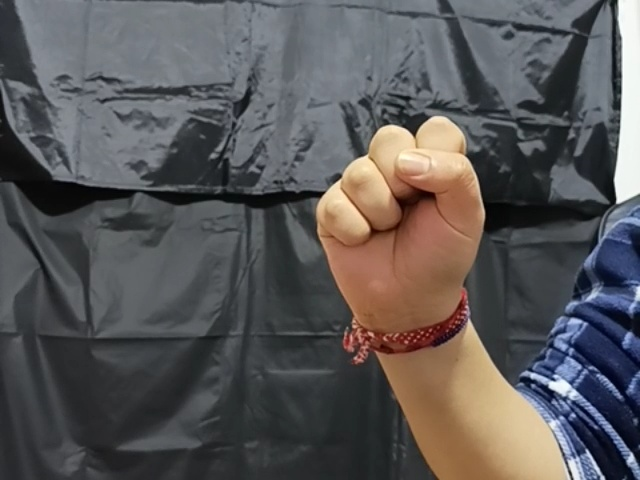S: (315, 113, 482, 322)
